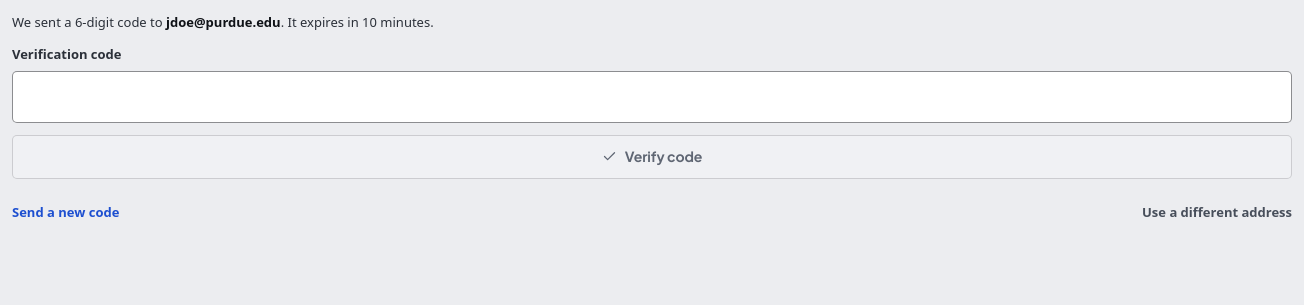
PurdueEmailVerification › says an expired code has expired, and offers a new one
Type "123456" into the field labelled "Verification code" at (652, 97), box [12,71,1292,123]
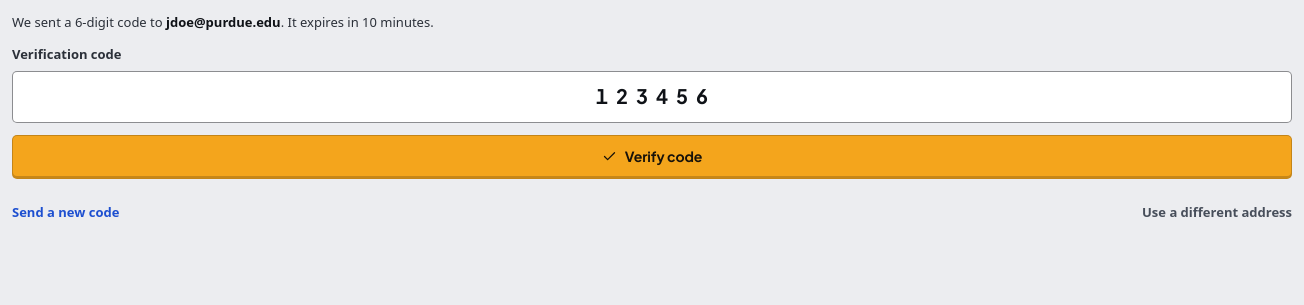
Click the button "Verify code" at (652, 157), box [12,135,1292,179]
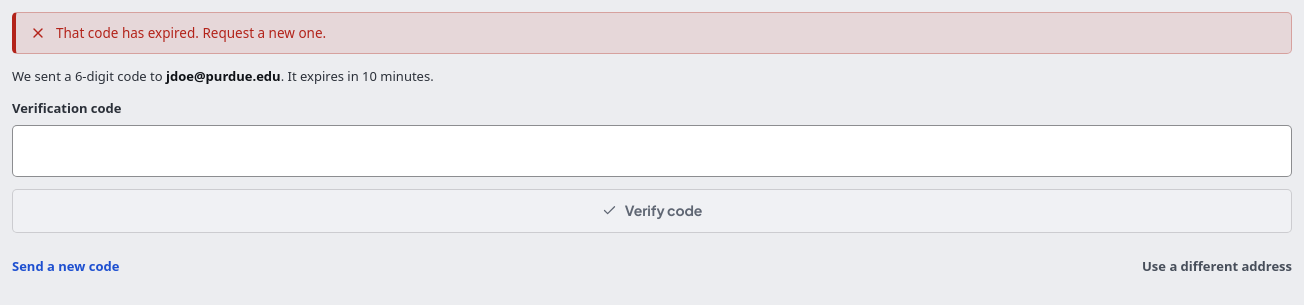
Now the message reads "That code has expired. Request a new one.", box [56,24,326,42]
Click the button "Send a new code" at (66, 267), box [12,245,119,289]
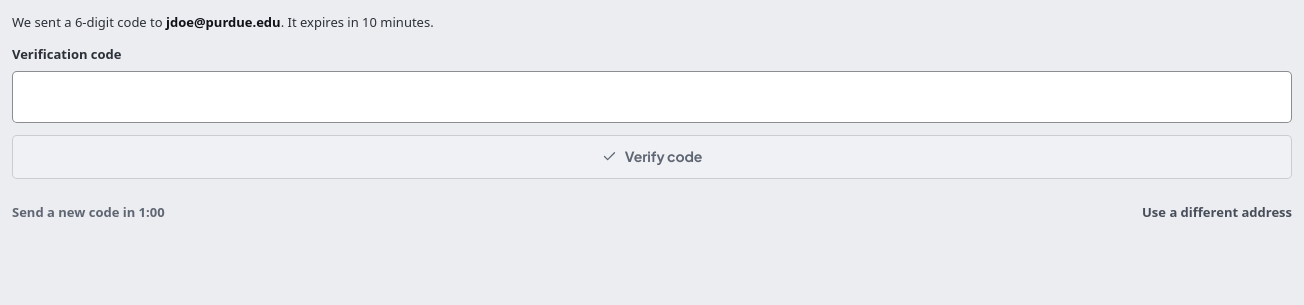
Now the button "Send a new code in 1:00" is disabled, box [12,191,165,235]
